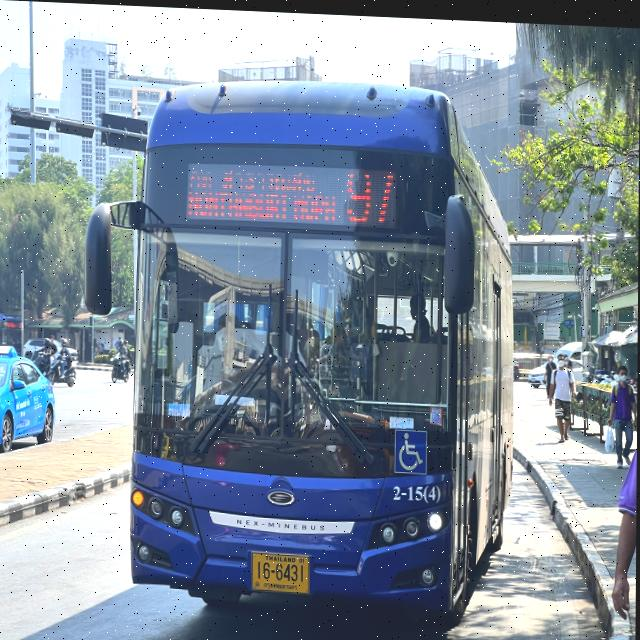Bus-Line-Number: (339, 155, 403, 226)
Destination-Sign-Normal: (183, 155, 338, 227)
TSB-Bus: (88, 70, 516, 623)
